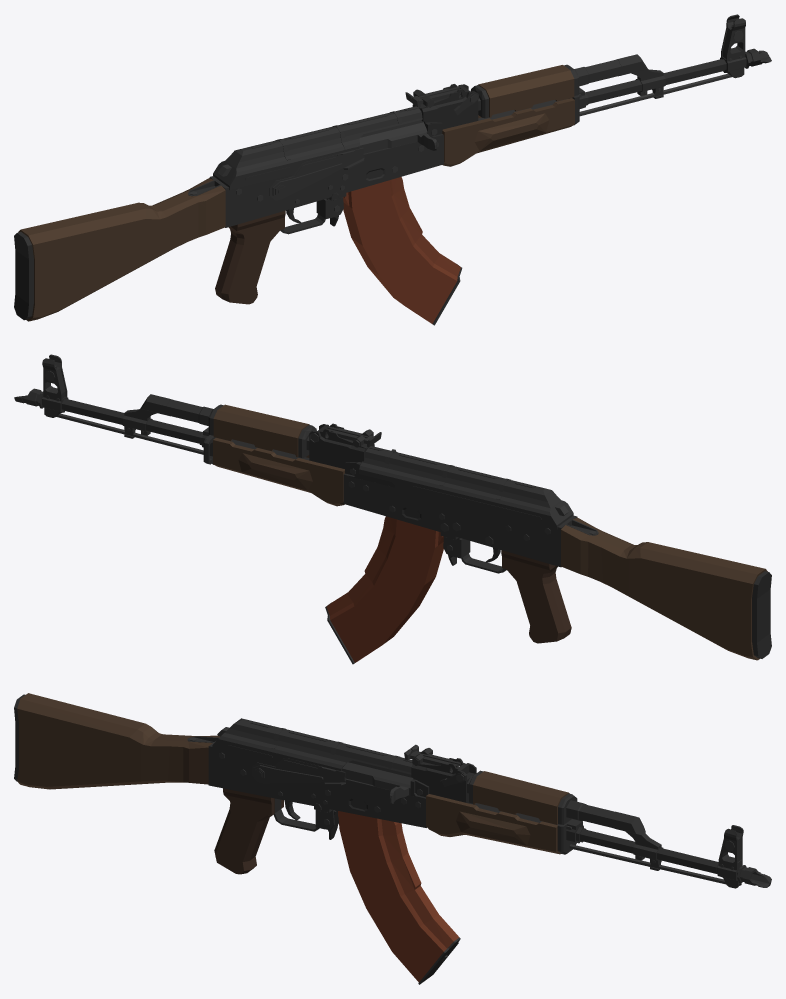
File: rifle_akm-named-nodes.glb
3 renders of one model, top to bottom at view 1: azimuth 30°, elevation 25°; view 2: azimuth 150°, elevation 25°; view 3: azimuth 330°, elevation 25°, orthographic.
Visible parts, largest first — view 1: Object_10, Object_7, Object_4, Object_14, Object_6, Object_5, Object_12, Object_11, Object_8, Object_13; view 2: Object_10, Object_7, Object_4, Object_14, Object_6, Object_5, Object_11, Object_13, Object_12; view 3: Object_10, Object_7, Object_4, Object_14, Object_6, Object_5, Object_12, Object_8, Object_13.
Boxes of the visible parts, box(x1,y1,x2,y2) form: Object_10: box(18, 65, 574, 321); Object_7: box(188, 14, 771, 234); Object_4: box(343, 177, 460, 323); Object_14: box(213, 89, 478, 189); Object_6: box(286, 20, 746, 226); Object_5: box(215, 210, 285, 304); Object_12: box(269, 86, 462, 325); Object_11: box(14, 232, 33, 320); Object_8: box(359, 120, 436, 153); Object_13: box(190, 31, 743, 211); Object_10: box(213, 404, 767, 660); Object_7: box(14, 354, 598, 573); Object_4: box(326, 516, 443, 662); Object_14: box(324, 424, 573, 529); Object_6: box(42, 360, 500, 565); Object_5: box(501, 550, 571, 643); Object_11: box(752, 571, 771, 658); Object_13: box(45, 371, 596, 551); Object_12: box(325, 426, 511, 664); Object_10: box(17, 693, 569, 854); Object_7: box(187, 736, 771, 888); Object_4: box(338, 811, 459, 982); Object_14: box(212, 718, 465, 786); Object_6: box(284, 758, 738, 875); Object_5: box(214, 788, 283, 874); Object_12: box(251, 744, 460, 984); Object_8: box(342, 760, 413, 803); Object_13: box(189, 737, 734, 884).
Bounding box in the file's own units: 4.8 × 1.39 × 0.3779.
1 material, 1 textured.
